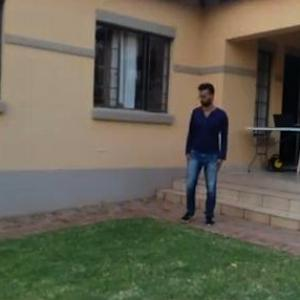follow: (182, 74, 228, 236)
